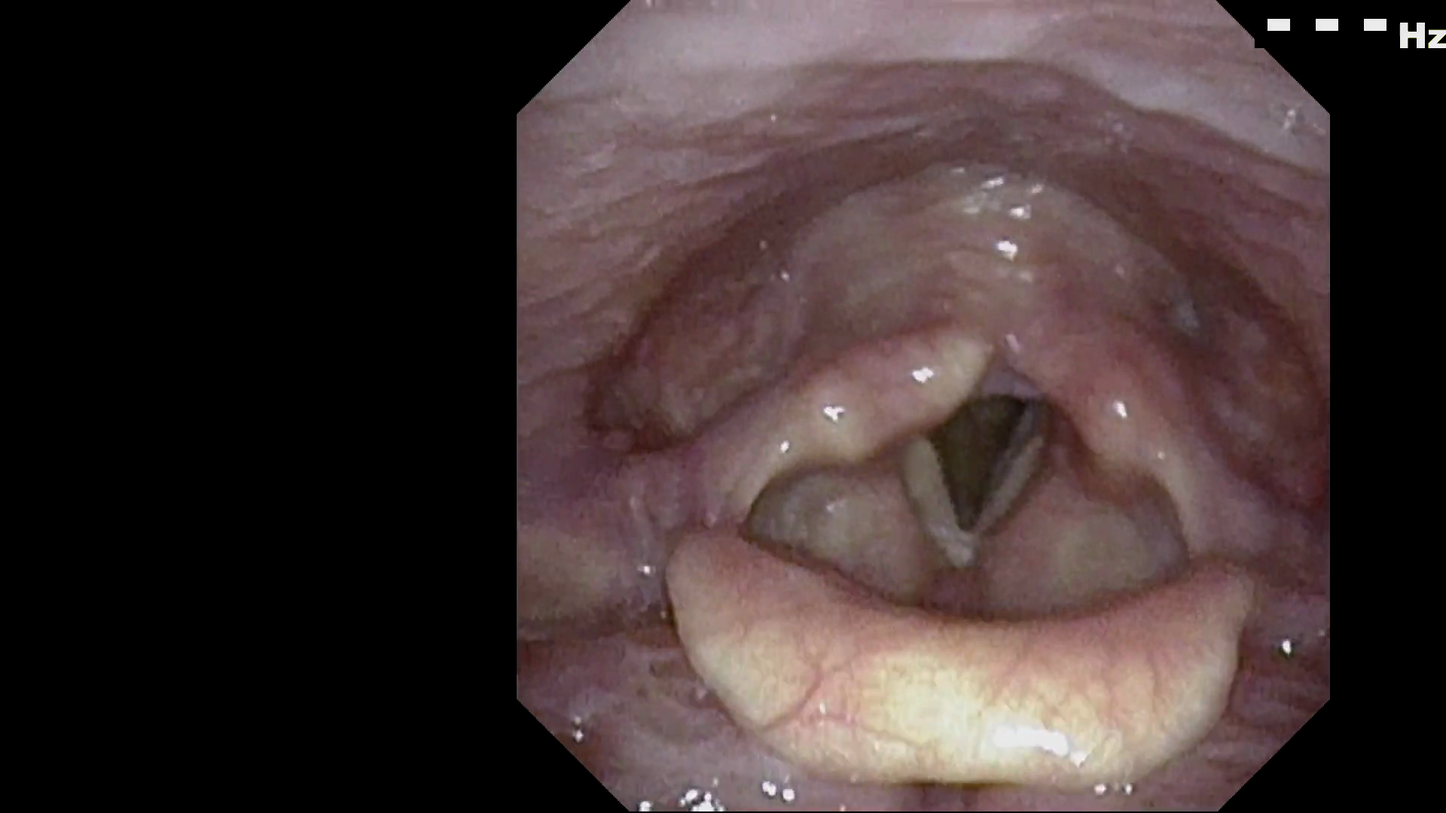epiglottis: (672, 539, 1251, 759)
trachea: (899, 375, 1065, 548)
